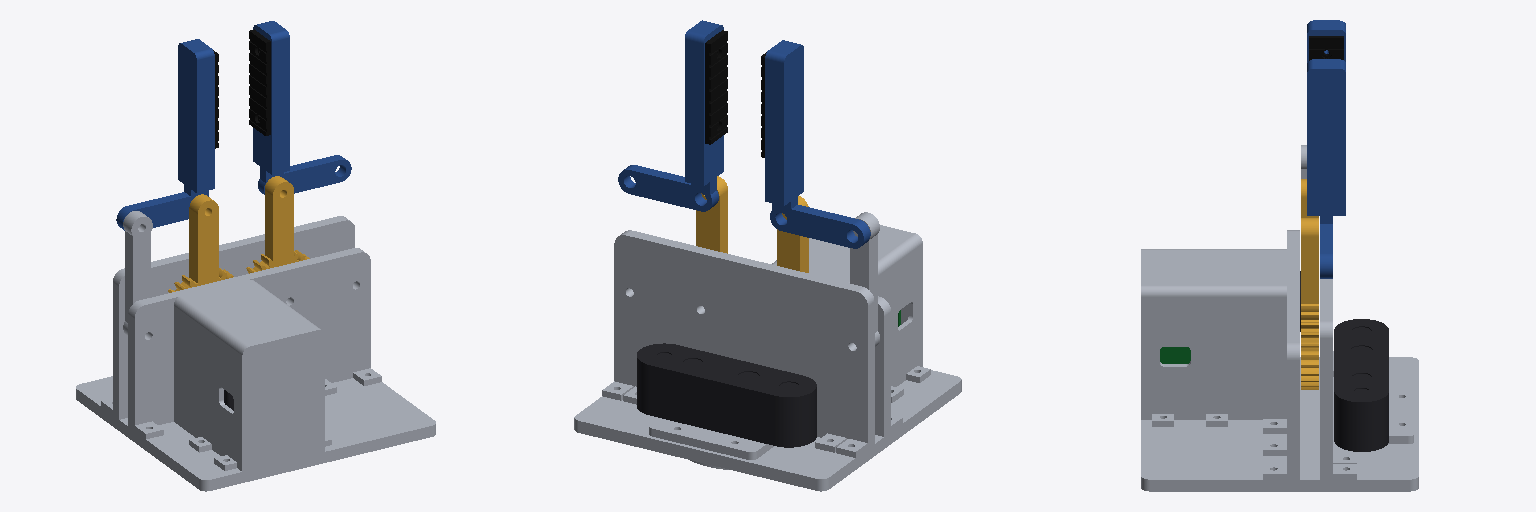
URDF robot description (gripper_mx64_ph42):
<?xml version="1.0"?>
<!-- cadpy:sourcePath=gripper_mx64_ph42_urdf.py -->
<!-- cadpy:sourceHash=6588bdf57060c864f10d49d9bfa0db3b6aaa4c136052aa0412db0f750d39f27d -->
<robot name="gripper_mx64_ph42">
  <material name="aluminium">
    <color rgba="0.72 0.74 0.78 1" />
  </material>
  <material name="brass">
    <color rgba="0.85 0.65 0.25 1" />
  </material>
  <material name="blue">
    <color rgba="0.2 0.35 0.6 1" />
  </material>
  <material name="rubber">
    <color rgba="0.1 0.1 0.1 1" />
  </material>
  <material name="dark">
    <color rgba="0.18 0.18 0.2 1" />
  </material>
  <material name="pcb">
    <color rgba="0.1 0.45 0.2 1" />
  </material>
  <link name="gripper_base_link">
    <visual name="j6_adapter_flange_visual">
      <origin xyz="0 0 0" rpy="0 0 0" />
      <geometry>
        <mesh filename="urdf_meshes/j6_adapter_flange.stl" scale="0.001 0.001 0.001" />
      </geometry>
      <material name="aluminium" />
    </visual>
    <collision name="j6_adapter_flange_collision">
      <origin xyz="0 0 0" rpy="0 0 0" />
      <geometry>
        <mesh filename="urdf_meshes/j6_adapter_flange.stl" scale="0.001 0.001 0.001" />
      </geometry>
    </collision>
    <visual name="base_plate_visual">
      <origin xyz="0 0 0" rpy="0 0 0" />
      <geometry>
        <mesh filename="urdf_meshes/base_plate.stl" scale="0.001 0.001 0.001" />
      </geometry>
      <material name="aluminium" />
    </visual>
    <collision name="base_plate_collision">
      <origin xyz="0 0 0" rpy="0 0 0" />
      <geometry>
        <mesh filename="urdf_meshes/base_plate.stl" scale="0.001 0.001 0.001" />
      </geometry>
    </collision>
    <visual name="back_plate_visual">
      <origin xyz="0 0 0" rpy="0 0 0" />
      <geometry>
        <mesh filename="urdf_meshes/back_plate.stl" scale="0.001 0.001 0.001" />
      </geometry>
      <material name="aluminium" />
    </visual>
    <collision name="back_plate_collision">
      <origin xyz="0 0 0" rpy="0 0 0" />
      <geometry>
        <mesh filename="urdf_meshes/back_plate.stl" scale="0.001 0.001 0.001" />
      </geometry>
    </collision>
    <visual name="front_plate_visual">
      <origin xyz="0 0 0" rpy="0 0 0" />
      <geometry>
        <mesh filename="urdf_meshes/front_plate.stl" scale="0.001 0.001 0.001" />
      </geometry>
      <material name="aluminium" />
    </visual>
    <collision name="front_plate_collision">
      <origin xyz="0 0 0" rpy="0 0 0" />
      <geometry>
        <mesh filename="urdf_meshes/front_plate.stl" scale="0.001 0.001 0.001" />
      </geometry>
    </collision>
    <visual name="mx64_housing_visual">
      <origin xyz="0 0 0" rpy="0 0 0" />
      <geometry>
        <mesh filename="urdf_meshes/mx64_housing.stl" scale="0.001 0.001 0.001" />
      </geometry>
      <material name="aluminium" />
    </visual>
    <collision name="mx64_housing_collision">
      <origin xyz="0 0 0" rpy="0 0 0" />
      <geometry>
        <mesh filename="urdf_meshes/mx64_housing.stl" scale="0.001 0.001 0.001" />
      </geometry>
    </collision>
    <visual name="mx64at_ar_visual">
      <origin xyz="0 0 0" rpy="0 0 0" />
      <geometry>
        <mesh filename="urdf_meshes/mx64at_ar.stl" scale="0.001 0.001 0.001" />
      </geometry>
      <material name="dark" />
    </visual>
    <visual name="adapter_board_visual">
      <origin xyz="0 0 0" rpy="0 0 0" />
      <geometry>
        <mesh filename="urdf_meshes/adapter_board.stl" scale="0.001 0.001 0.001" />
      </geometry>
      <material name="pcb" />
    </visual>
    <visual name="camera_bracket_visual">
      <origin xyz="0 0 0" rpy="0 0 0" />
      <geometry>
        <mesh filename="urdf_meshes/camera_bracket.stl" scale="0.001 0.001 0.001" />
      </geometry>
      <material name="aluminium" />
    </visual>
    <collision name="camera_bracket_collision">
      <origin xyz="0 0 0" rpy="0 0 0" />
      <geometry>
        <mesh filename="urdf_meshes/camera_bracket.stl" scale="0.001 0.001 0.001" />
      </geometry>
    </collision>
    <visual name="realsense_d435_visual">
      <origin xyz="0 0 0" rpy="0 0 0" />
      <geometry>
        <mesh filename="urdf_meshes/realsense_d435.stl" scale="0.001 0.001 0.001" />
      </geometry>
      <material name="dark" />
    </visual>
    <collision name="realsense_d435_collision">
      <origin xyz="0 0 0" rpy="0 0 0" />
      <geometry>
        <mesh filename="urdf_meshes/realsense_d435.stl" scale="0.001 0.001 0.001" />
      </geometry>
    </collision>
    <inertial>
      <origin xyz="-0.00406666 -0.0159861 0.0307265" rpy="0 0 0" />
      <mass value="0.905847" />
      <inertia ixx="0.00127577" ixy="-0.000113622" ixz="5.901e-05" iyy="0.00150214" iyz="4.32297e-05" izz="0.00177416" />
    </inertial>
  </link>
  <link name="left_crank_link">
    <visual name="drive_gear_crank_left_visual">
      <origin xyz="0 0 0" rpy="0 0 0" />
      <geometry>
        <mesh filename="urdf_meshes/drive_gear_crank_left.stl" scale="0.001 0.001 0.001" />
      </geometry>
      <material name="brass" />
    </visual>
    <collision name="drive_gear_crank_left_collision">
      <origin xyz="0 0 0" rpy="0 0 0" />
      <geometry>
        <mesh filename="urdf_meshes/drive_gear_crank_left.stl" scale="0.001 0.001 0.001" />
      </geometry>
    </collision>
    <inertial>
      <origin xyz="1.06581e-17 -0.00756552 0.0110838" rpy="0 0 0" />
      <mass value="0.0351585" />
      <inertia ixx="1.56467e-05" ixy="9.42964e-21" ixz="7.0408e-20" iyy="1.86548e-05" iyz="-2.55312e-08" izz="3.37814e-06" />
    </inertial>
  </link>
  <link name="right_crank_link">
    <visual name="driven_gear_crank_right_visual">
      <origin xyz="0 0 0" rpy="0 0 0" />
      <geometry>
        <mesh filename="urdf_meshes/driven_gear_crank_right.stl" scale="0.001 0.001 0.001" />
      </geometry>
      <material name="brass" />
    </visual>
    <collision name="driven_gear_crank_right_collision">
      <origin xyz="0 0 0" rpy="0 0 0" />
      <geometry>
        <mesh filename="urdf_meshes/driven_gear_crank_right.stl" scale="0.001 0.001 0.001" />
      </geometry>
    </collision>
    <inertial>
      <origin xyz="-2.4869e-17 -0.0075 0.0101795" rpy="0 0 0" />
      <mass value="0.0384925" />
      <inertia ixx="1.61676e-05" ixy="6.28643e-22" ixz="-5.02914e-20" iyy="1.92855e-05" iyz="-9.09495e-22" izz="3.52848e-06" />
    </inertial>
  </link>
  <link name="left_idle_link">
    <visual name="idle_link_left_visual">
      <origin xyz="0 0 0" rpy="0 0 0" />
      <geometry>
        <mesh filename="urdf_meshes/idle_link_left.stl" scale="0.001 0.001 0.001" />
      </geometry>
      <material name="aluminium" />
    </visual>
    <collision name="idle_link_left_collision">
      <origin xyz="0 0 0" rpy="0 0 0" />
      <geometry>
        <mesh filename="urdf_meshes/idle_link_left.stl" scale="0.001 0.001 0.001" />
      </geometry>
    </collision>
    <inertial>
      <origin xyz="2.13163e-17 -0.0075 0.0281868" rpy="0 0 0" />
      <mass value="0.0135516" />
      <inertia ixx="4.67394e-06" ixy="0" ixz="1.00583e-20" iyy="4.72641e-06" iyz="9.09495e-22" izz="1.97022e-07" />
    </inertial>
  </link>
  <link name="right_idle_link">
    <visual name="idle_link_right_visual">
      <origin xyz="0 0 0" rpy="0 0 0" />
      <geometry>
        <mesh filename="urdf_meshes/idle_link_right.stl" scale="0.001 0.001 0.001" />
      </geometry>
      <material name="aluminium" />
    </visual>
    <collision name="idle_link_right_collision">
      <origin xyz="0 0 0" rpy="0 0 0" />
      <geometry>
        <mesh filename="urdf_meshes/idle_link_right.stl" scale="0.001 0.001 0.001" />
      </geometry>
    </collision>
    <inertial>
      <origin xyz="1.42109e-17 -0.0075 0.0281868" rpy="0 0 0" />
      <mass value="0.0135516" />
      <inertia ixx="4.67394e-06" ixy="0" ixz="-1.00583e-20" iyy="4.72641e-06" iyz="9.09495e-22" izz="1.97022e-07" />
    </inertial>
  </link>
  <link name="left_finger_link">
    <visual name="finger_coupler_left_visual">
      <origin xyz="0 0 0" rpy="0 0 0" />
      <geometry>
        <mesh filename="urdf_meshes/finger_coupler_left.stl" scale="0.001 0.001 0.001" />
      </geometry>
      <material name="blue" />
    </visual>
    <collision name="finger_coupler_left_collision">
      <origin xyz="0 0 0" rpy="0 0 0" />
      <geometry>
        <mesh filename="urdf_meshes/finger_coupler_left.stl" scale="0.001 0.001 0.001" />
      </geometry>
    </collision>
    <visual name="finger_pad_left_visual">
      <origin xyz="0 0 0" rpy="0 0 0" />
      <geometry>
        <mesh filename="urdf_meshes/finger_pad_left.stl" scale="0.001 0.001 0.001" />
      </geometry>
      <material name="rubber" />
    </visual>
    <collision name="finger_pad_left_collision">
      <origin xyz="0 0 0" rpy="0 0 0" />
      <geometry>
        <mesh filename="urdf_meshes/finger_pad_left.stl" scale="0.001 0.001 0.001" />
      </geometry>
    </collision>
    <inertial>
      <origin xyz="-0.00279246 9.08674e-20 0.0388049" rpy="0 0 0" />
      <mass value="0.0471763" />
      <inertia ixx="3.38553e-05" ixy="-2.13429e-22" ixz="-6.0606e-06" iyy="3.69088e-05" iyz="1.44827e-21" izz="5.15036e-06" />
    </inertial>
  </link>
  <link name="right_finger_link">
    <visual name="finger_coupler_right_visual">
      <origin xyz="0 0 0" rpy="0 0 0" />
      <geometry>
        <mesh filename="urdf_meshes/finger_coupler_right.stl" scale="0.001 0.001 0.001" />
      </geometry>
      <material name="blue" />
    </visual>
    <collision name="finger_coupler_right_collision">
      <origin xyz="0 0 0" rpy="0 0 0" />
      <geometry>
        <mesh filename="urdf_meshes/finger_coupler_right.stl" scale="0.001 0.001 0.001" />
      </geometry>
    </collision>
    <visual name="finger_pad_right_visual">
      <origin xyz="0 0 0" rpy="0 0 0" />
      <geometry>
        <mesh filename="urdf_meshes/finger_pad_right.stl" scale="0.001 0.001 0.001" />
      </geometry>
      <material name="rubber" />
    </visual>
    <collision name="finger_pad_right_collision">
      <origin xyz="0 0 0" rpy="0 0 0" />
      <geometry>
        <mesh filename="urdf_meshes/finger_pad_right.stl" scale="0.001 0.001 0.001" />
      </geometry>
    </collision>
    <inertial>
      <origin xyz="0.00279246 9.12062e-20 0.0388049" rpy="0 0 0" />
      <mass value="0.0471763" />
      <inertia ixx="3.38553e-05" ixy="2.13347e-22" ixz="6.0606e-06" iyy="3.69088e-05" iyz="1.45962e-21" izz="5.15036e-06" />
    </inertial>
  </link>
  <link name="grip_center_link" />
  <link name="camera_link" />
  <link name="camera_depth_optical_frame" />
  <joint name="left_crank_joint" type="revolute">
    <parent link="gripper_base_link" />
    <child link="left_crank_link" />
    <origin xyz="-0.021 0 0.061" rpy="0 0 0" />
    <axis xyz="0 -1 0" />
    <limit lower="-0.239110" upper="0.610865" effort="6.0" velocity="6.5973" />
  </joint>
  <joint name="right_crank_joint" type="revolute">
    <parent link="gripper_base_link" />
    <child link="right_crank_link" />
    <origin xyz="0.021 0 0.061" rpy="0 0 0" />
    <axis xyz="0 1 0" />
    <limit lower="-0.239110" upper="0.610865" effort="6.0" velocity="6.5973" />
    <mimic joint="left_crank_joint" multiplier="1" offset="0" />
  </joint>
  <joint name="left_idle_joint" type="revolute">
    <parent link="gripper_base_link" />
    <child link="left_idle_link" />
    <origin xyz="-0.058 0 0.061" rpy="0 0 0" />
    <axis xyz="0 -1 0" />
    <limit lower="-0.239110" upper="0.610865" effort="6.0" velocity="6.5973" />
    <mimic joint="left_crank_joint" multiplier="1" offset="0" />
  </joint>
  <joint name="right_idle_joint" type="revolute">
    <parent link="gripper_base_link" />
    <child link="right_idle_link" />
    <origin xyz="0.058 0 0.061" rpy="0 0 0" />
    <axis xyz="0 1 0" />
    <limit lower="-0.239110" upper="0.610865" effort="6.0" velocity="6.5973" />
    <mimic joint="left_crank_joint" multiplier="1" offset="0" />
  </joint>
  <joint name="left_finger_joint" type="revolute">
    <parent link="left_crank_link" />
    <child link="left_finger_link" />
    <origin xyz="0 0 0.055" rpy="0 0 0" />
    <axis xyz="0 1 0" />
    <limit lower="-0.239110" upper="0.610865" effort="6.0" velocity="6.5973" />
    <mimic joint="left_crank_joint" multiplier="1" offset="0" />
  </joint>
  <joint name="right_finger_joint" type="revolute">
    <parent link="right_crank_link" />
    <child link="right_finger_link" />
    <origin xyz="0 0 0.055" rpy="0 0 0" />
    <axis xyz="0 -1 0" />
    <limit lower="-0.239110" upper="0.610865" effort="6.0" velocity="6.5973" />
    <mimic joint="left_crank_joint" multiplier="1" offset="0" />
  </joint>
  <joint name="grip_center_joint" type="fixed">
    <parent link="gripper_base_link" />
    <child link="grip_center_link" />
    <origin xyz="0 0 0.172" rpy="0 0 0" />
  </joint>
  <joint name="camera_joint" type="fixed">
    <parent link="gripper_base_link" />
    <child link="camera_link" />
    <origin xyz="0.0175 0.016 0.03685" rpy="0 -1.5708 -1.5708" />
  </joint>
  <joint name="camera_depth_optical_joint" type="fixed">
    <parent link="camera_link" />
    <child link="camera_depth_optical_frame" />
    <origin xyz="0 0 0" rpy="-1.5708 0 -1.5708" />
  </joint>
</robot>

--- What the picture shows (computed from the rendered views, not written in the file) ---
3 views of the same robot in one strip: view 1: azimuth 30°, elevation 25°; view 2: azimuth 150°, elevation 25°; view 3: azimuth 270°, elevation 25° (orthographic).
Model gripper_mx64_ph42 with 10 links and 9 joints (6 revolute, 3 fixed), rooted at gripper_base_link, posed every joint at zero.
Links seen in each view (by area): view 1: gripper_base_link, right_finger_link, left_finger_link, left_crank_link, right_crank_link, left_idle_link; view 2: gripper_base_link, left_finger_link, right_finger_link, left_idle_link, right_crank_link, left_crank_link; view 3: gripper_base_link, right_finger_link, right_crank_link, left_finger_link.
Boxes of the visible links, box(x1,y1,x2,y2) form: gripper_base_link: box(76, 216, 435, 491); right_finger_link: box(249, 21, 351, 194); left_finger_link: box(116, 39, 218, 230); left_crank_link: box(168, 194, 233, 292); right_crank_link: box(246, 176, 309, 273); left_idle_link: box(123, 211, 152, 335); gripper_base_link: box(574, 225, 961, 491); left_finger_link: box(761, 40, 870, 248); right_finger_link: box(618, 20, 727, 211); left_idle_link: box(850, 212, 879, 346); right_crank_link: box(696, 176, 727, 253); left_crank_link: box(777, 196, 808, 272); gripper_base_link: box(1141, 230, 1418, 491); right_finger_link: box(1307, 59, 1345, 278); right_crank_link: box(1301, 218, 1318, 389); left_finger_link: box(1307, 20, 1345, 62).
Bounding box of the posed robot: 0.132 × 0.1265 × 0.2018 m (x, y, z).
16 mesh visuals loaded from 17 distinct referenced files (16 binary STL); not drawn: 1 (reference not matched to a file when rendering).
